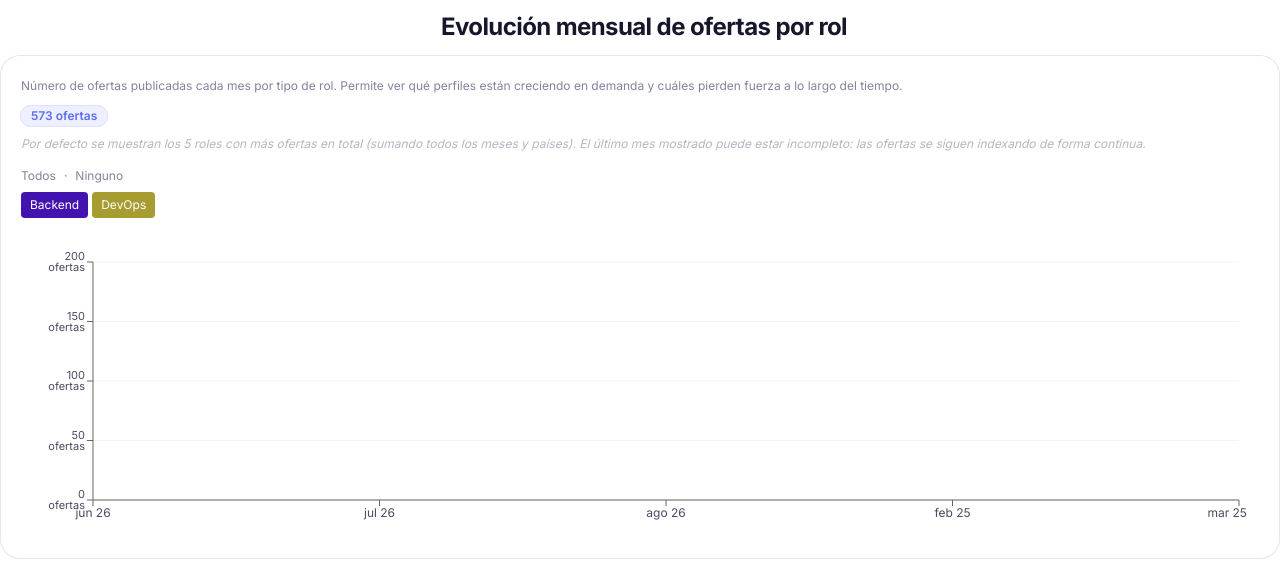
DemandByRoleChart › selector de roles › al pulsar Todos después de Ninguno, desaparece el mensaje
This screenshot has width=1280, height=576.
Expected: the button "Todos" is shown, [21,168,56,184]
What coordinates should you click on to do the following:
click the button "Ninguno"
I would click on:
 (99, 176)
Its box is [75,168,123,184].
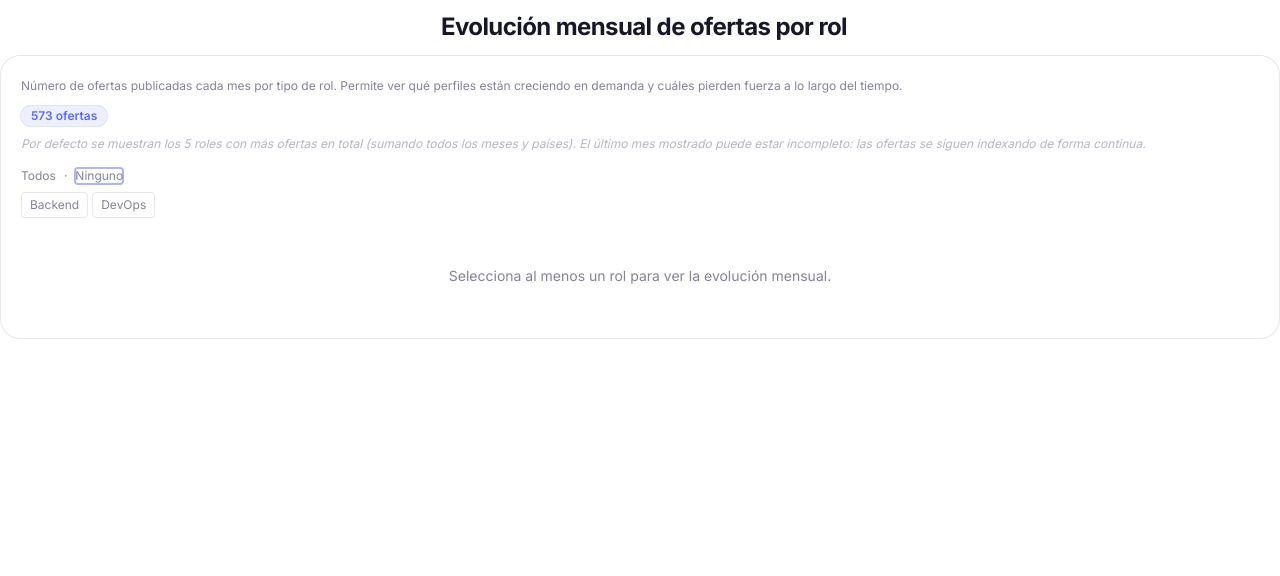
What coordinates should you click on to do the following:
click the button "Todos"
I would click on:
 (38, 176)
Its box is [21,168,56,184].
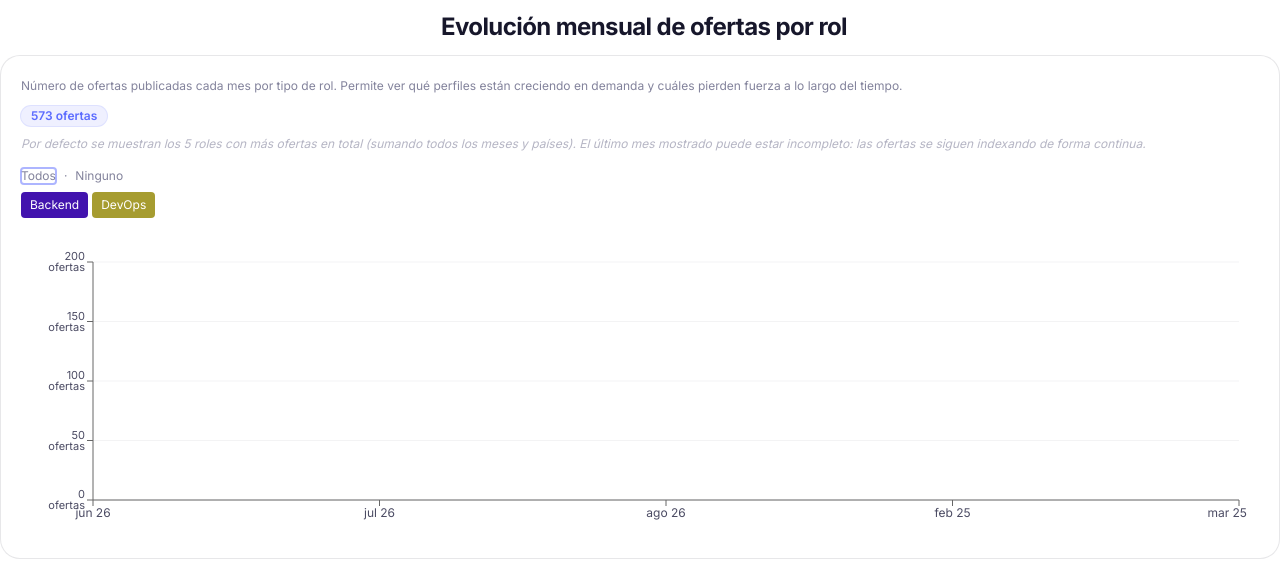
Result: the text "Selecciona al menos un rol" is gone
